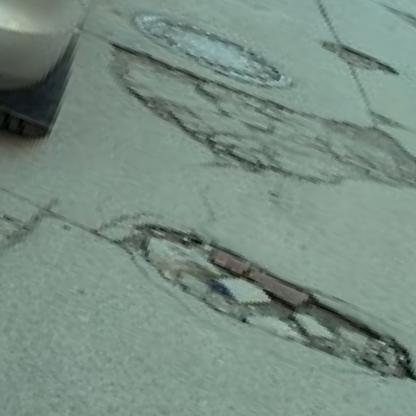pothole: (88, 20, 416, 241), (103, 205, 416, 398), (381, 0, 416, 111), (313, 34, 397, 80), (364, 107, 399, 131)
